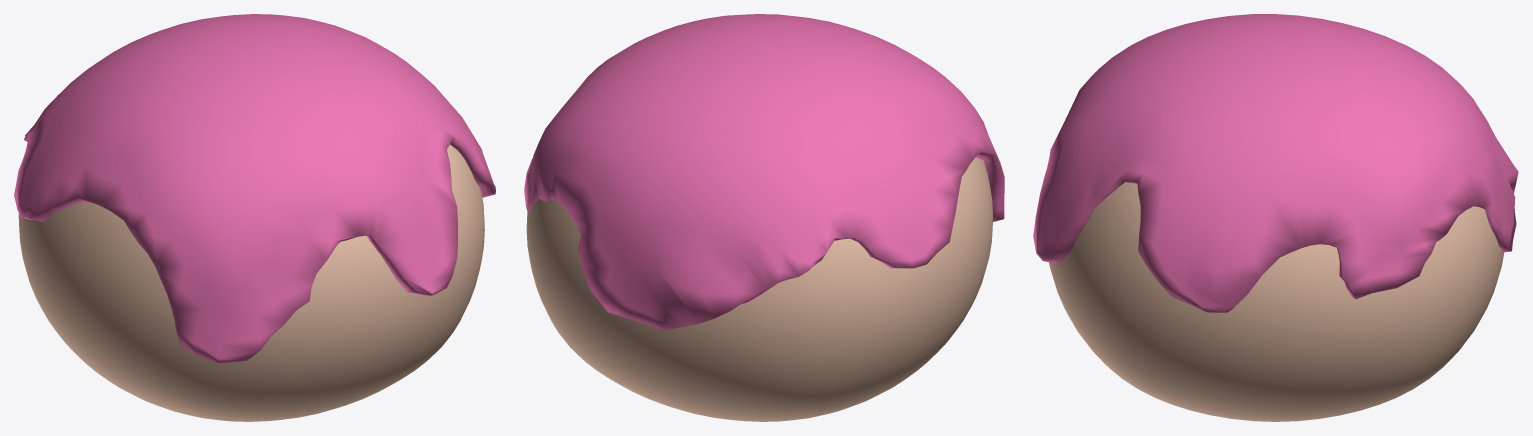
File: pink clay.fbx
The picture shows the model from 3 angles, left to right: view 1: azimuth 30°, elevation 25°; view 2: azimuth 150°, elevation 25°; view 3: azimuth 270°, elevation 25°; orthographic projection.
Visible parts, largest first — view 1: pink clay; view 2: pink clay; view 3: pink clay.
Part boxes in pixels (x1=…): pink clay: x1=14, y1=14, x2=495, y2=421; pink clay: x1=524, y1=14, x2=1004, y2=421; pink clay: x1=1033, y1=14, x2=1518, y2=421.
Bounding box in the file's own units: 92.47 × 74.29 × 93.34.
